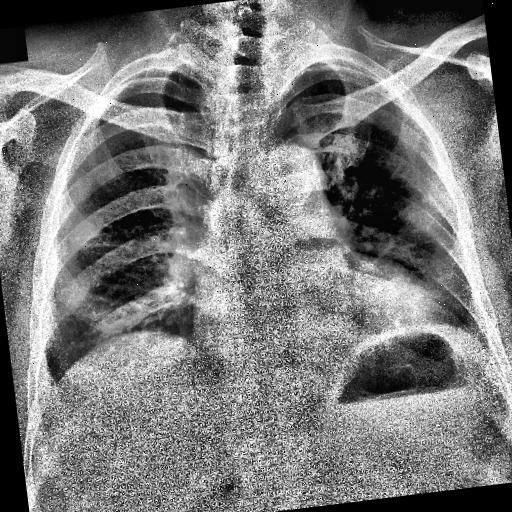0- Aortic enlargement: (258, 143, 330, 233), (264, 137, 332, 222), (256, 136, 327, 216)
13- Pulmonary fibrosis: (82, 286, 183, 337)
3- Cardiomegaly: (184, 238, 448, 358), (184, 262, 448, 374), (182, 274, 458, 356)
4- Consolidation: (376, 113, 470, 333), (402, 196, 440, 240)
6- Infiltration: (390, 186, 462, 256)
7- Lung Opacity: (416, 237, 480, 326), (82, 286, 183, 337), (390, 186, 462, 256)
9- Other lesion: (416, 237, 480, 326)
